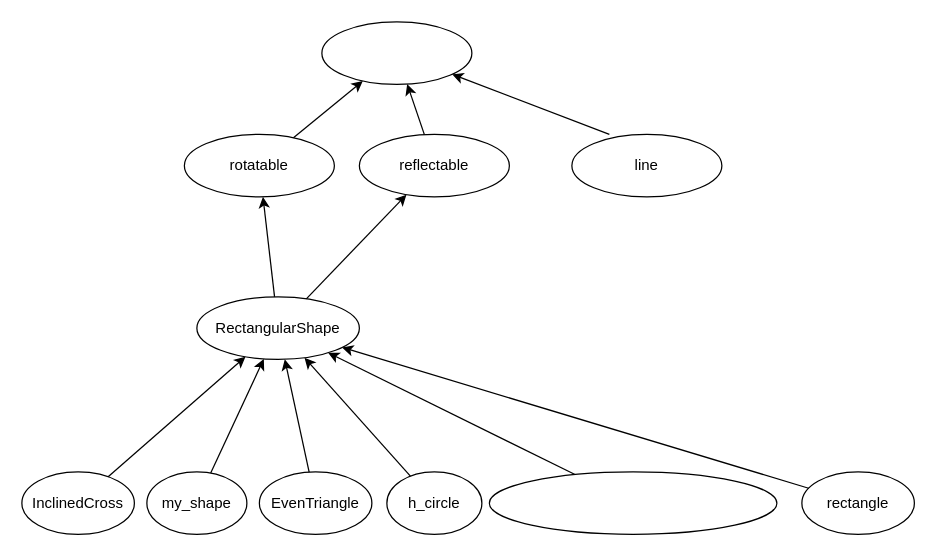
Some shapes in this 936 by 556 pixel diagram are drawn without their labels. The shapes that lost their labels are listed below. From the top down, each one's centre as x and y in pixels, then its label:
At (396,52): "shape".
At (632,502): "EvenTriangleWithInclinedCross".
